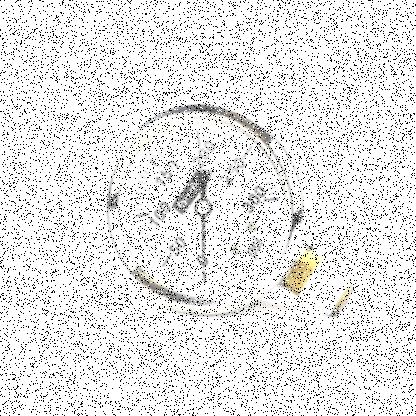needle: (201, 216, 206, 279)
